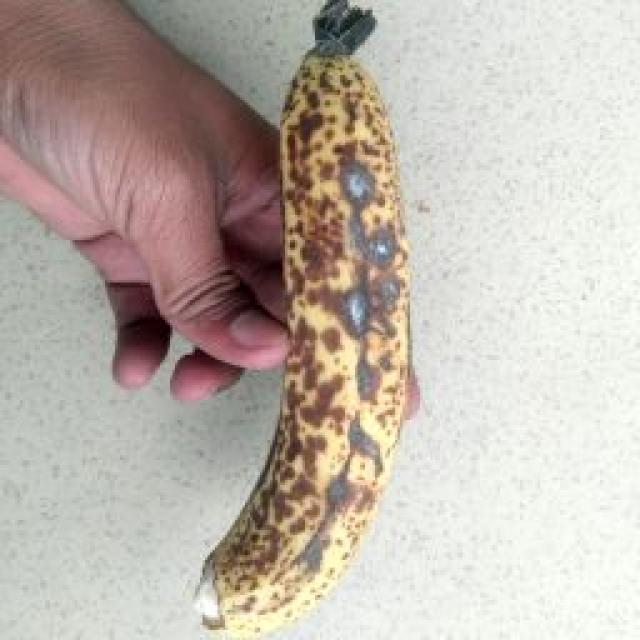banana: (105, 42, 615, 506)
